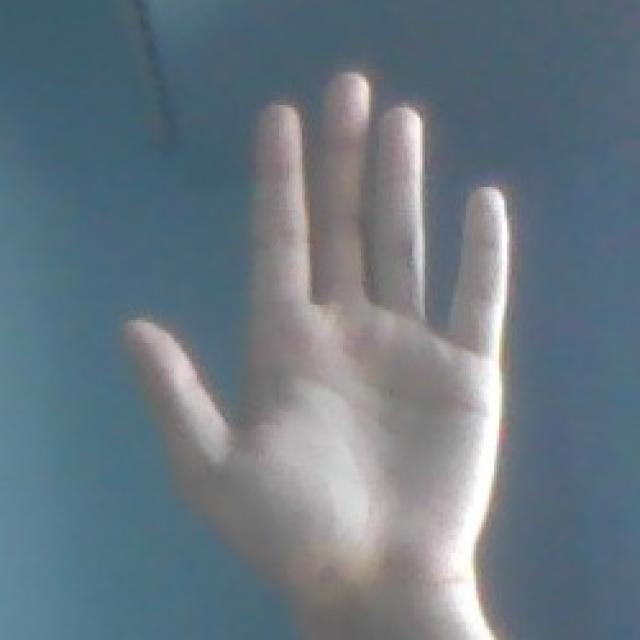Numeric-5: (121, 57, 512, 620)
